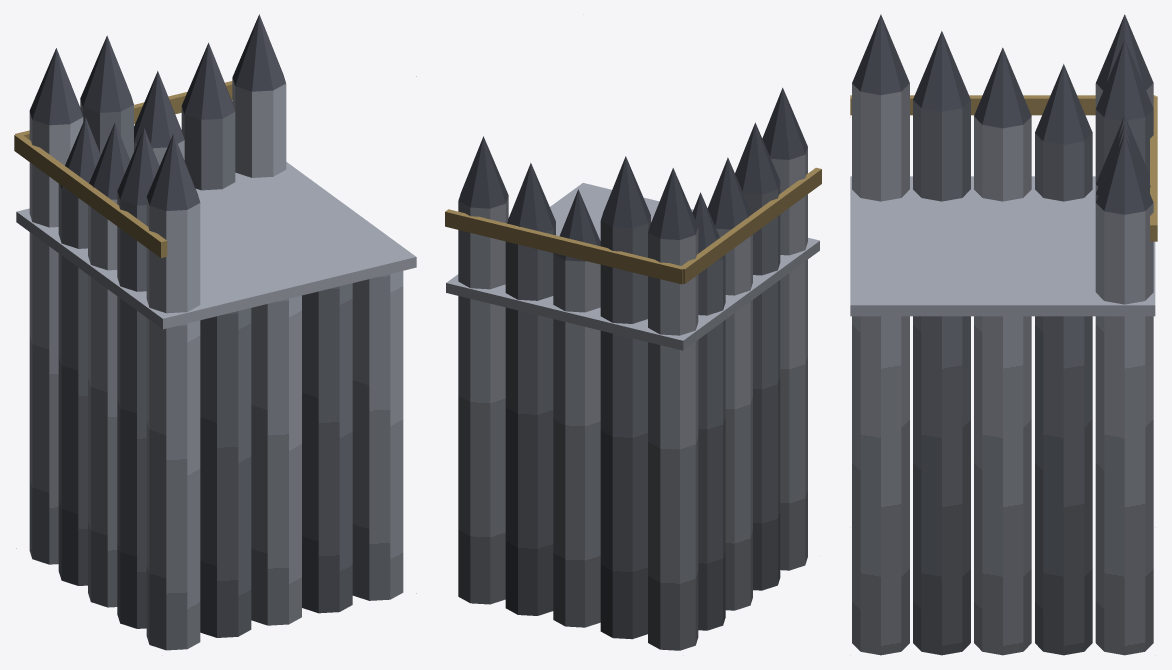
The model's file is perimeter_wall_metal_f6.glb.
3 renders of one model, left to right at view 1: azimuth 30°, elevation 25°; view 2: azimuth 150°, elevation 25°; view 3: azimuth 270°, elevation 25°, orthographic. The views are drawn at different scales.
Size of the model in its own units: 2.01 by 3.9 by 2.01.
1 material, 1 textured.
